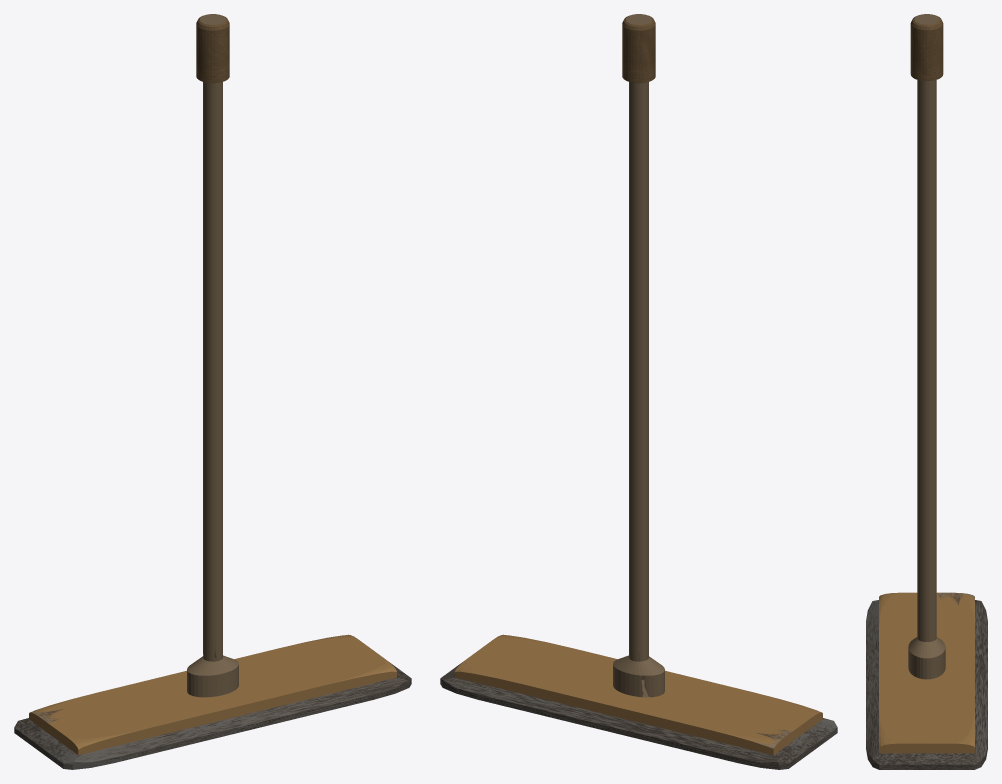
File: mop.fbx
3 views of the same model, side by side, from view 1: azimuth 30°, elevation 25°; view 2: azimuth 150°, elevation 25°; view 3: azimuth 270°, elevation 25° (orthographic). The views are drawn at different scales.
Visible parts, largest first — view 1: Cube; view 2: Cube; view 3: Cube.
Boxes of the visible parts, x1=… form: Cube: x1=14, y1=14, x2=411, y2=769; Cube: x1=440, y1=14, x2=837, y2=769; Cube: x1=866, y1=14, x2=987, y2=769.
Size of the model in its own units: 70.67 by 133 by 22.06.
Materials: 1 (1 with a texture image).
